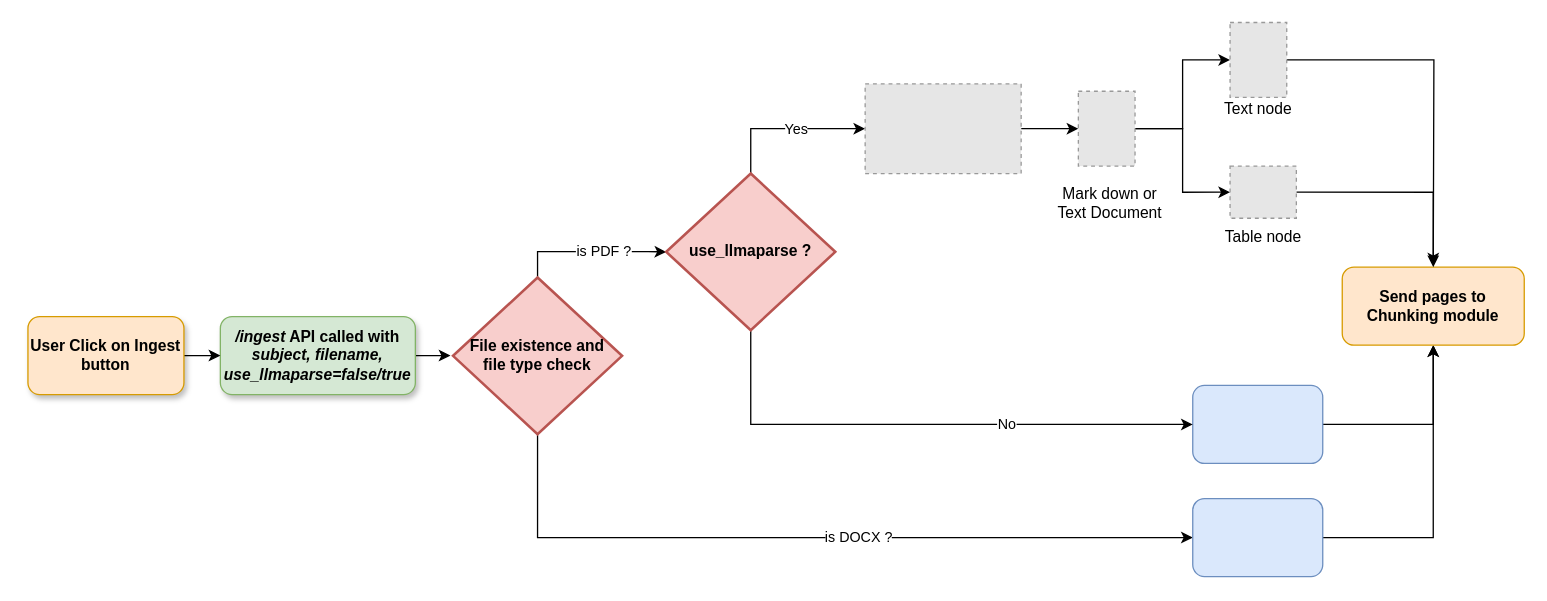
This 1547x601 diagram has some shape labels left out. Grey dashed boxes stand in for pictures. Each missing label, with the centre of its shape:
"Load with Docx2txtLoader" goes at point 1257,537.
"Load with pyPDFLoader" goes at point 1257,423.
